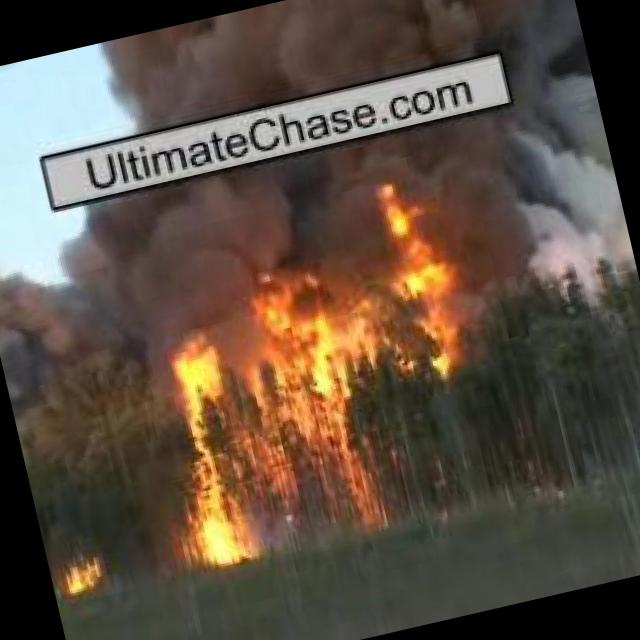Fire: (136, 276, 392, 560), (362, 160, 488, 380), (51, 554, 127, 601)
Smoke: (0, 81, 636, 410), (88, 0, 580, 135)
